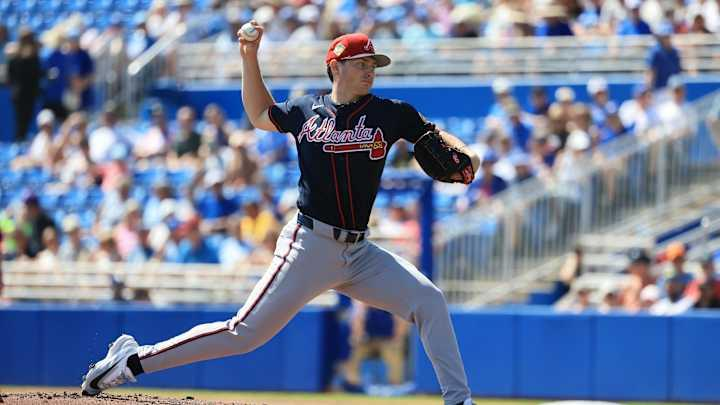baseball: (239, 21, 259, 41)
